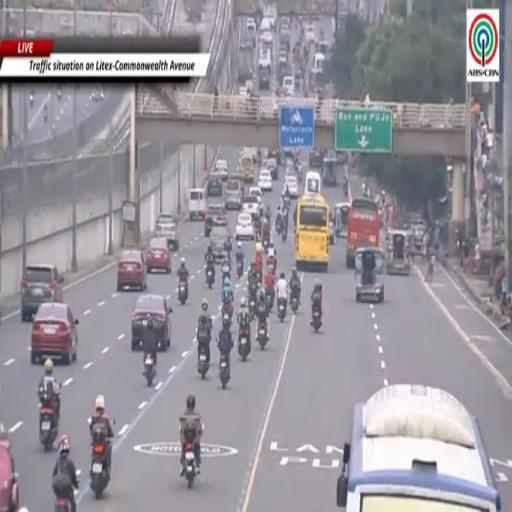bus: (337, 384, 502, 511), (295, 195, 329, 271), (346, 198, 380, 268), (239, 148, 256, 183), (304, 171, 321, 196)
car: (31, 302, 78, 364), (21, 264, 63, 322), (131, 294, 172, 350), (0, 442, 22, 511), (117, 250, 146, 291), (147, 237, 171, 273), (156, 213, 179, 250), (210, 226, 231, 262), (205, 203, 227, 236), (224, 179, 243, 210), (235, 212, 255, 240), (248, 186, 263, 216), (242, 196, 260, 218), (211, 159, 229, 180), (283, 175, 299, 198), (207, 176, 223, 197), (258, 169, 272, 191), (248, 187, 263, 206), (266, 157, 278, 180), (267, 148, 281, 166), (283, 75, 294, 95), (90, 88, 104, 102), (261, 31, 273, 45), (306, 25, 315, 43), (246, 18, 255, 31), (239, 87, 248, 97)
motorcycle: (90, 424, 111, 499), (39, 406, 58, 452), (185, 443, 196, 488), (239, 327, 250, 361), (219, 352, 229, 389), (144, 354, 155, 387), (198, 346, 209, 378), (257, 323, 267, 349), (222, 302, 231, 327), (54, 498, 71, 511), (312, 309, 321, 332), (206, 264, 214, 289), (265, 291, 275, 311), (179, 280, 187, 305), (278, 298, 285, 322), (222, 263, 230, 283), (268, 256, 276, 274), (291, 295, 298, 314), (249, 297, 255, 318), (237, 261, 243, 279), (275, 217, 281, 235), (263, 236, 269, 253), (255, 226, 261, 242), (297, 168, 303, 184), (281, 228, 287, 242), (257, 271, 262, 285), (43, 108, 48, 122), (343, 183, 348, 197), (29, 93, 34, 106), (57, 88, 61, 100)
